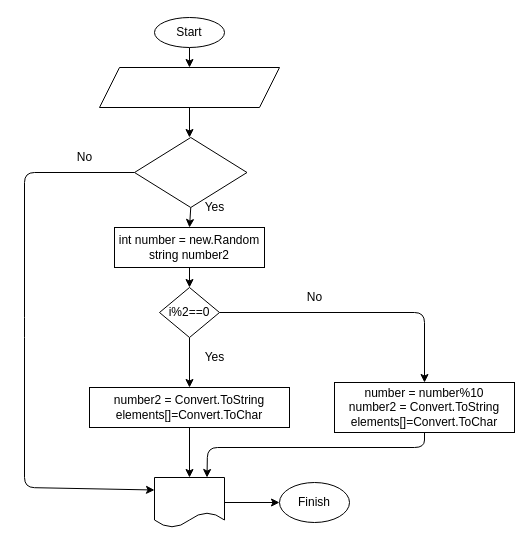
This 532x545 diagram has some shape labels left out. The box of each missing label's shape, as (x1, y1, x2, y2) in pixels:
char [] elements = new char[] string alfabet = " ": (98, 66, 280, 108)
i=0 i<elements.length i++: (134, 136, 247, 208)
Вывод: (154, 476, 224, 528)
